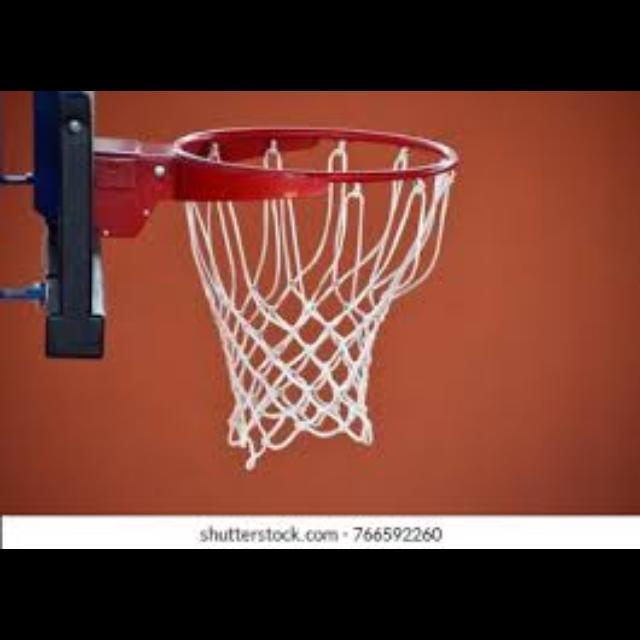rim: (178, 126, 458, 450)
